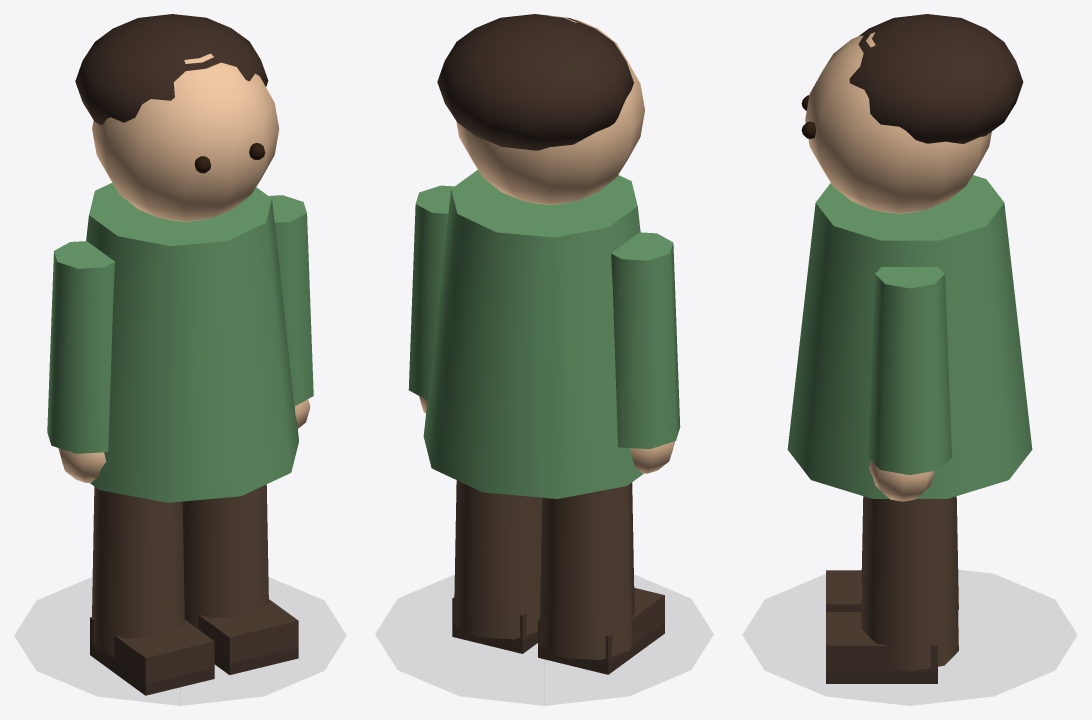
File: villager-green.glb
3 views of the same model, side by side, from view 1: azimuth 30°, elevation 25°; view 2: azimuth 150°, elevation 25°; view 3: azimuth 270°, elevation 25° (orthographic).
Bounding box in the file's own units: 0.96 × 1.95 × 0.96.
